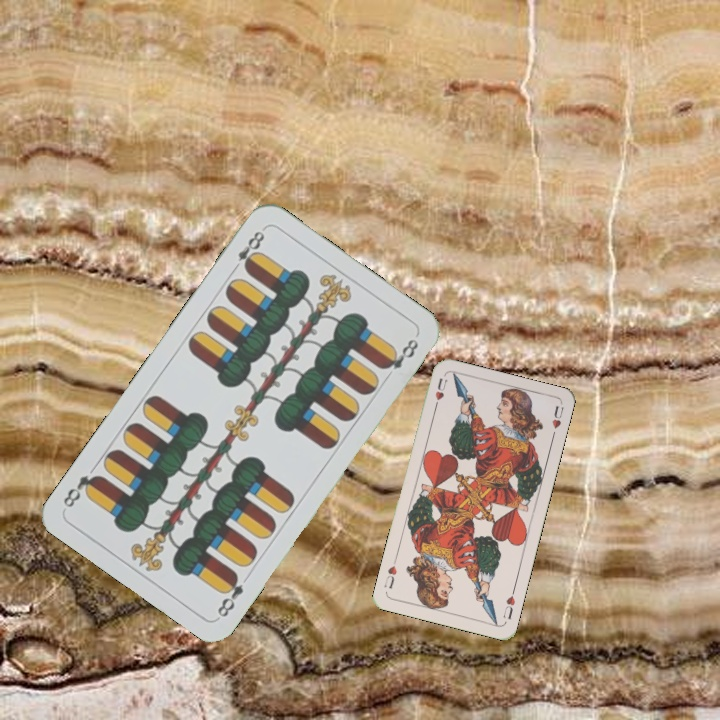E8: (227, 227, 267, 275), (213, 568, 246, 620)
HU: (430, 374, 450, 412), (499, 585, 518, 622)
